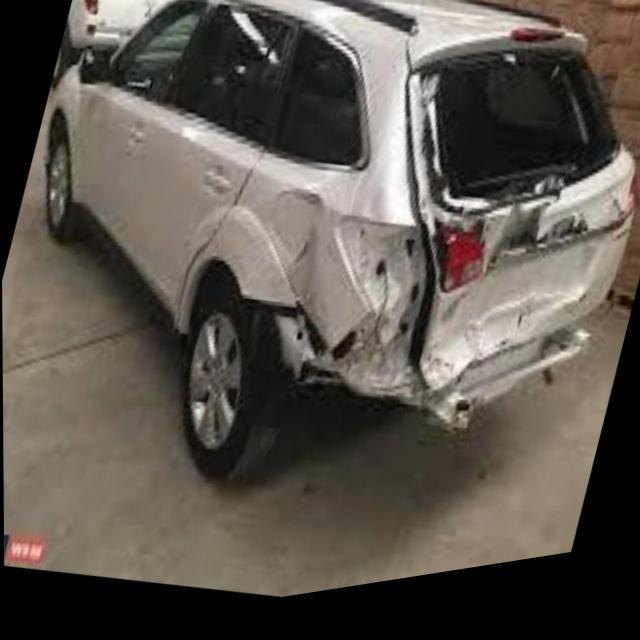crash: (242, 163, 631, 437)
